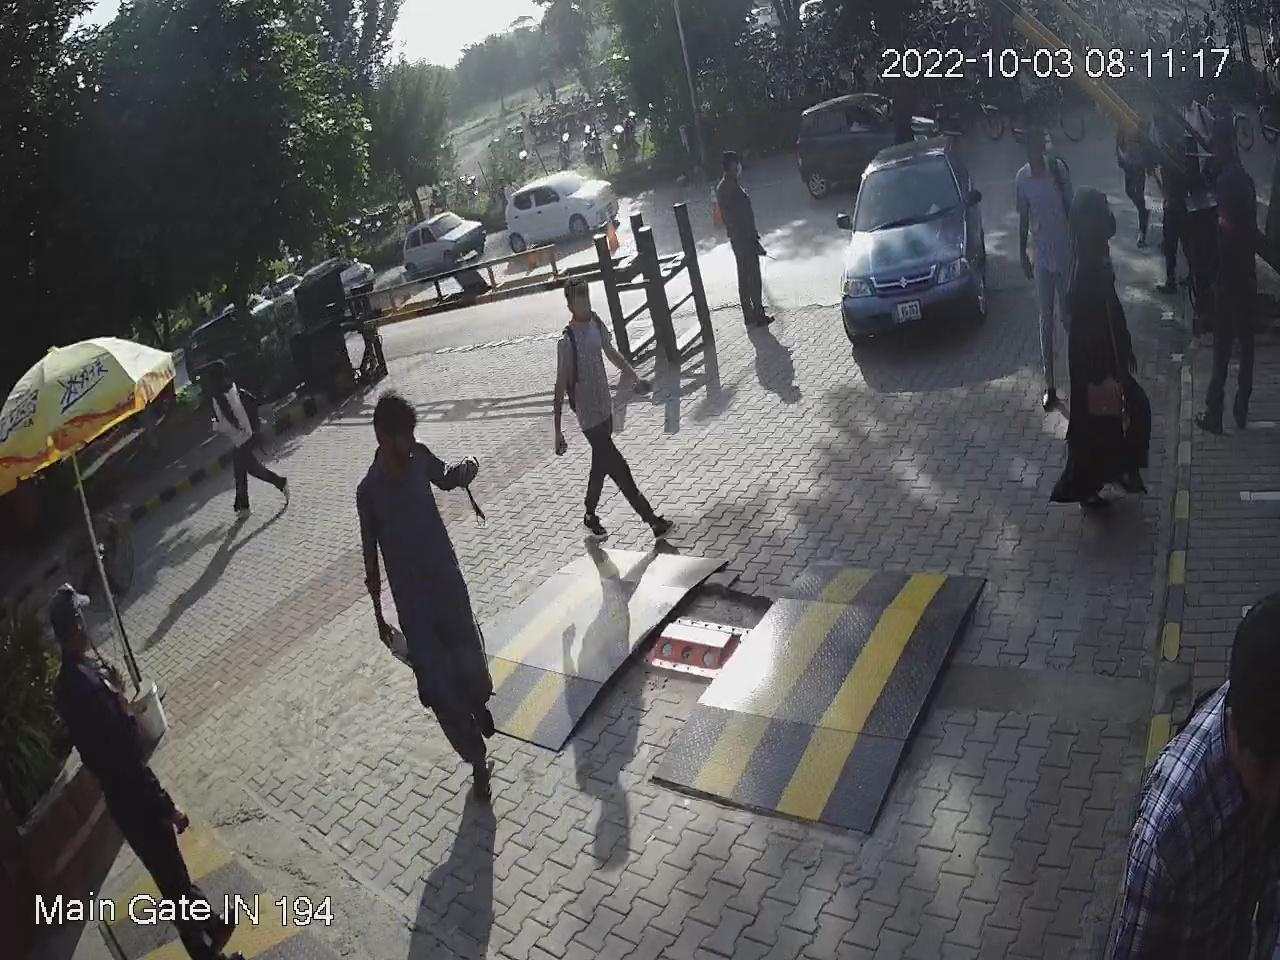windshield: (856, 140, 971, 240)
